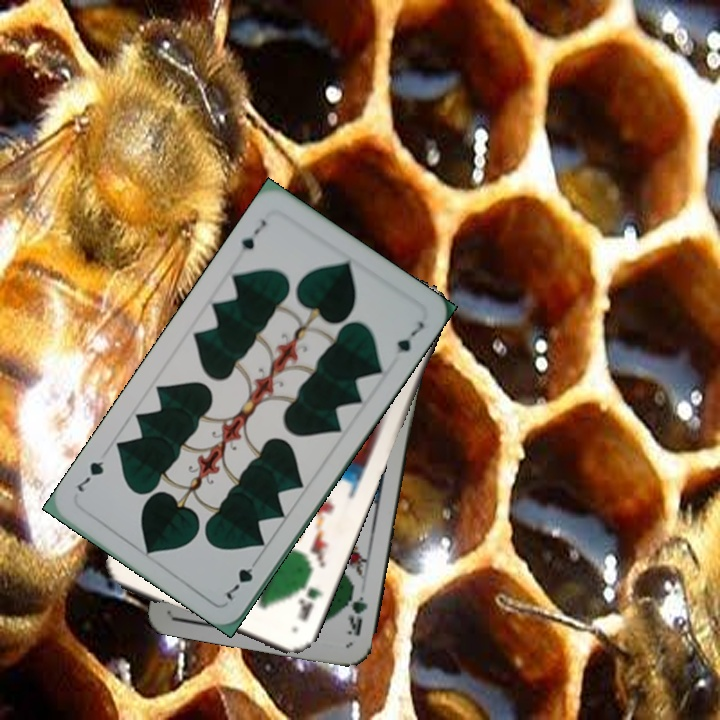G7: (220, 552, 263, 603), (237, 215, 270, 253)
GK: (293, 574, 326, 625), (343, 583, 370, 639)
